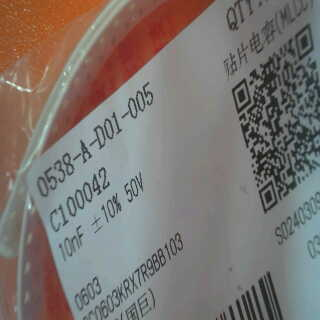10nF: (55, 221, 89, 260)
